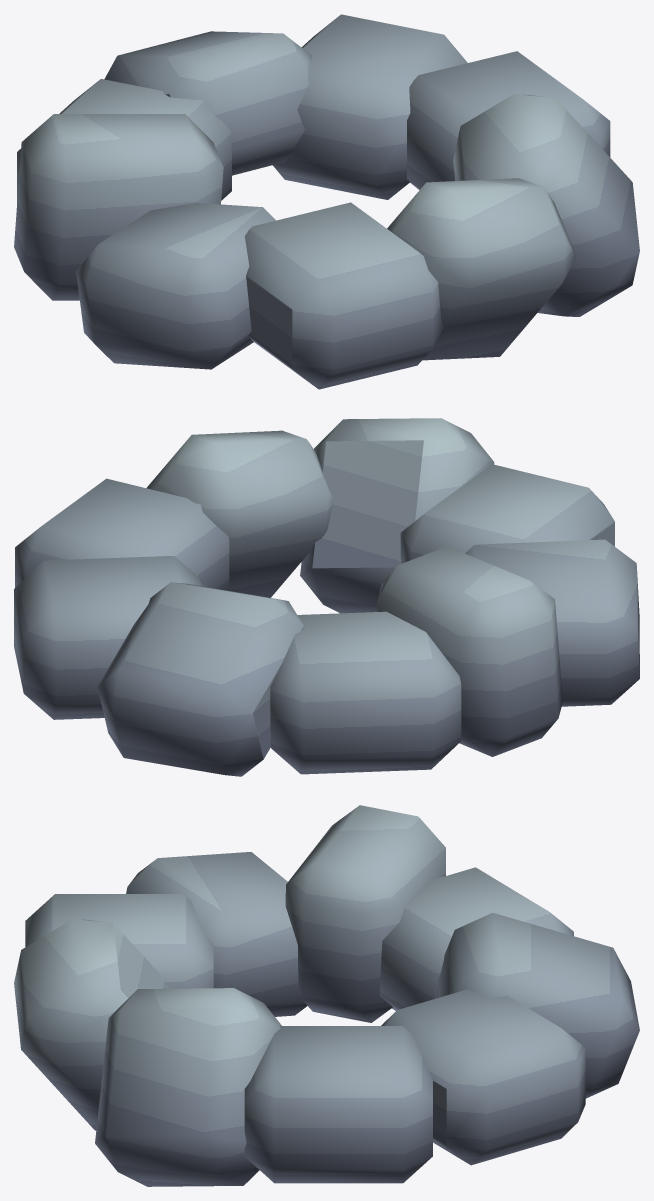
File: stone_ring.fbx
3 views of the same model, one above another, from view 1: azimuth 30°, elevation 25°; view 2: azimuth 150°, elevation 25°; view 3: azimuth 270°, elevation 25° (orthographic). The views are drawn at different scales.
Parts seen in each view (by area): view 1: stone_ring; view 2: stone_ring; view 3: stone_ring.
Boxes of the visible parts, x1,y1,x2,y2 form: stone_ring: [14, 14, 639, 389]; stone_ring: [14, 418, 639, 776]; stone_ring: [14, 805, 639, 1186].
Size of the model in its own units: 371 by 128 by 381.
